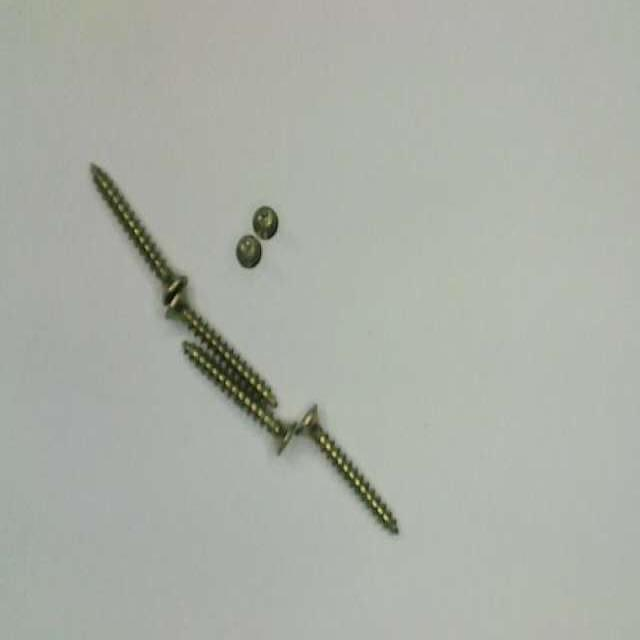Parafuso: (90, 162, 189, 306), (164, 283, 278, 408), (295, 402, 399, 533), (183, 342, 297, 457), (253, 205, 278, 239), (236, 235, 261, 267)
